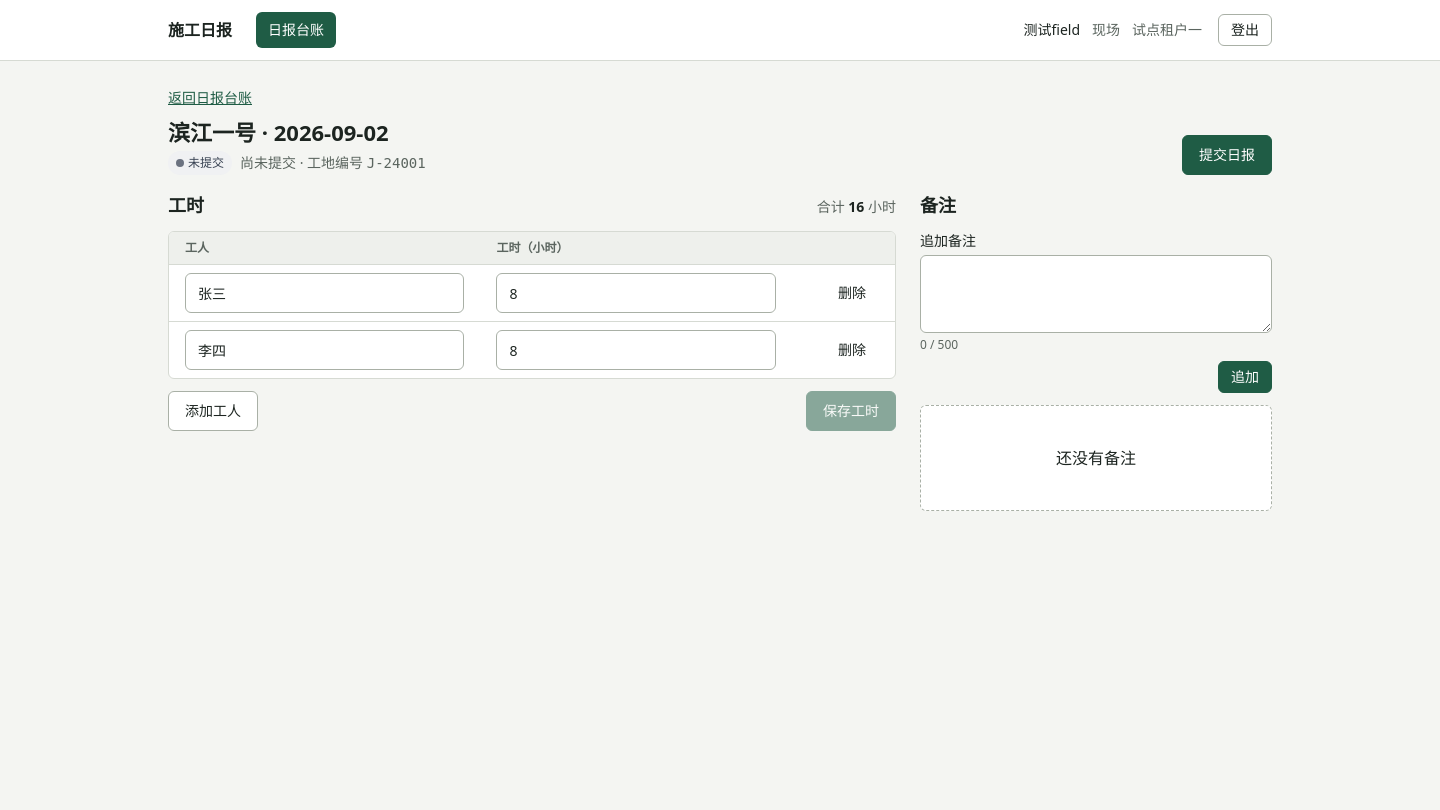
Test: ReportDetailPage › submits after confirmation
Click the button "提交日报": click(1227, 155) 1182,135 -> 1272,175
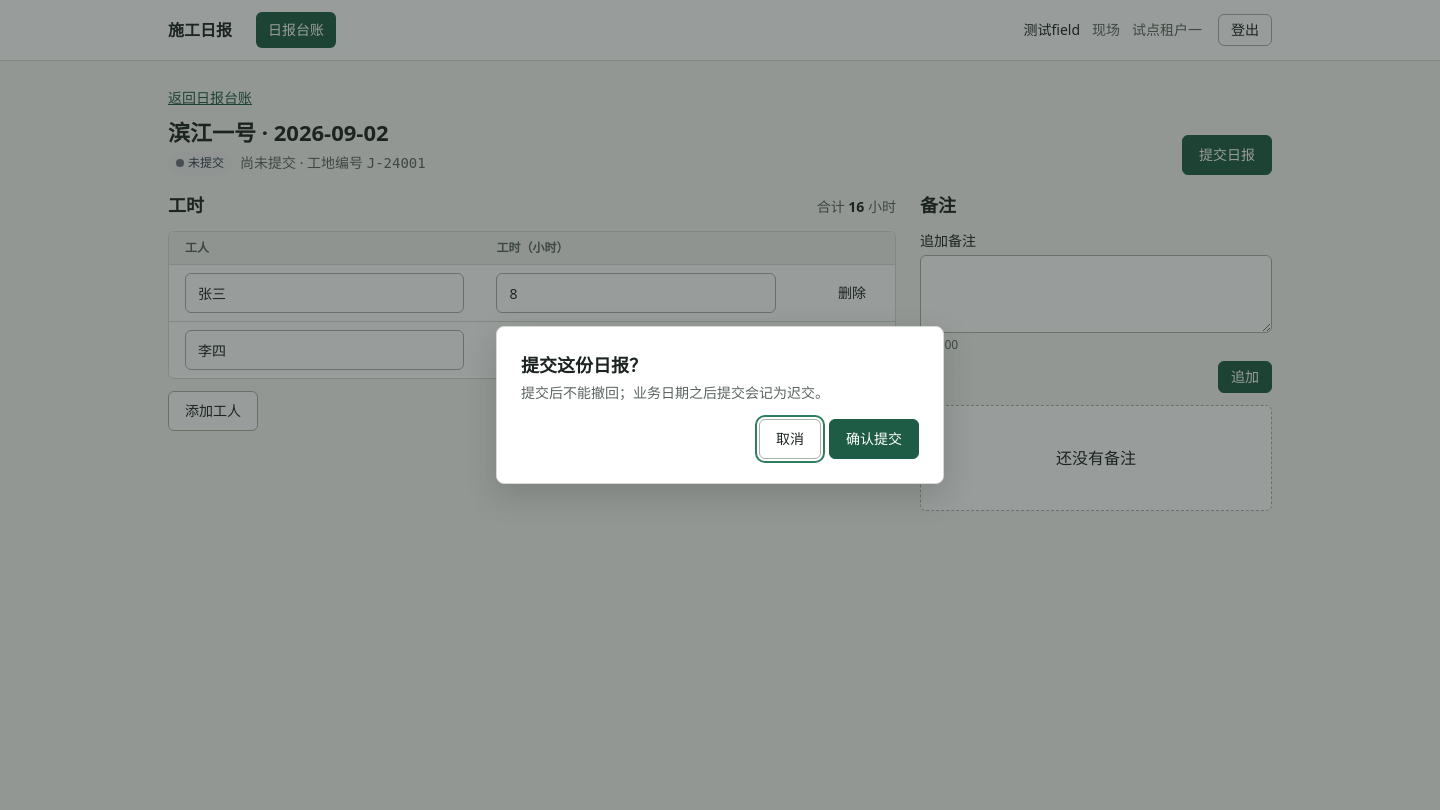
Click the button "确认提交": click(874, 439) 829,419 -> 919,459
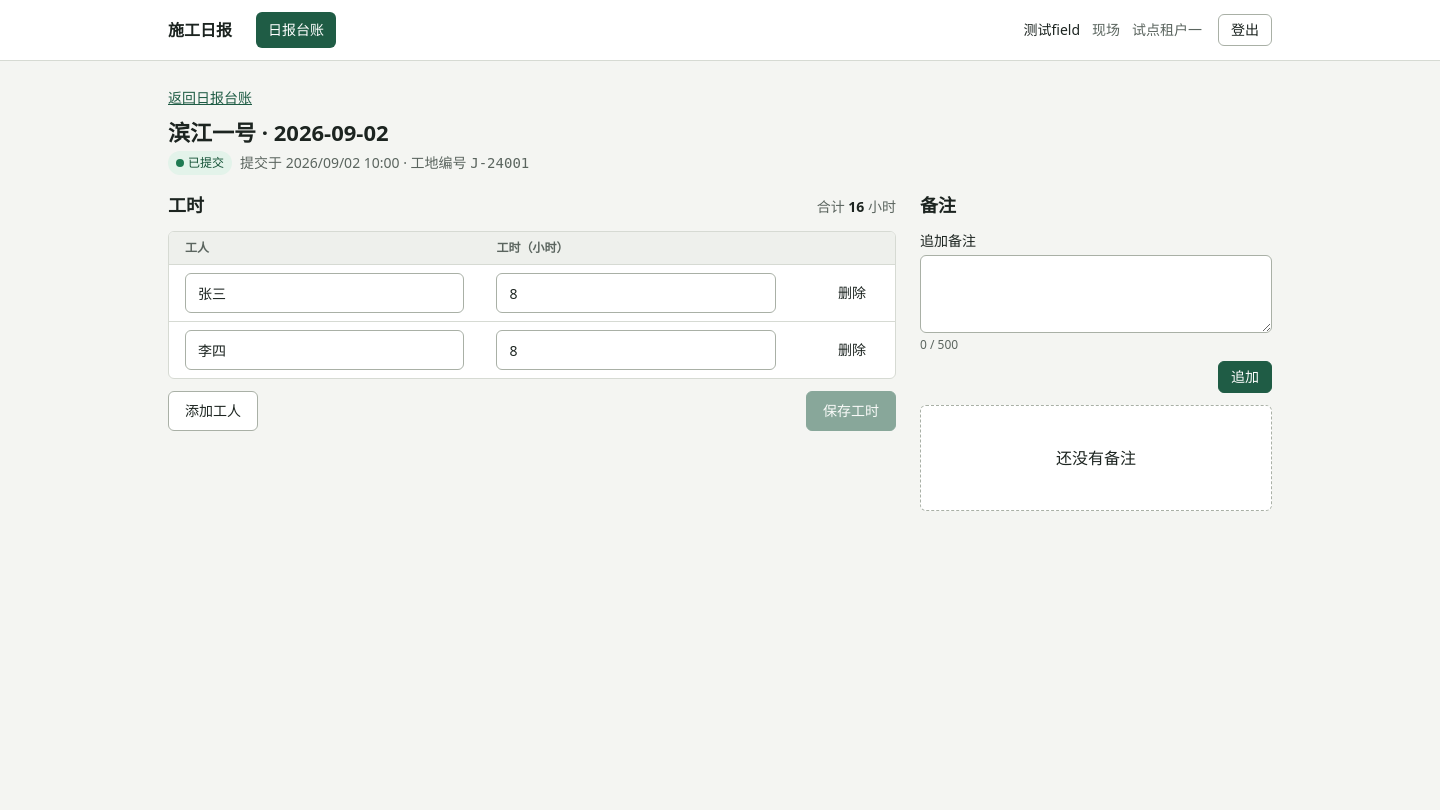
Now the dialog is gone
Now the text "已提交" is shown, box 168,151 -> 232,175
Now the button "提交日报" is gone
